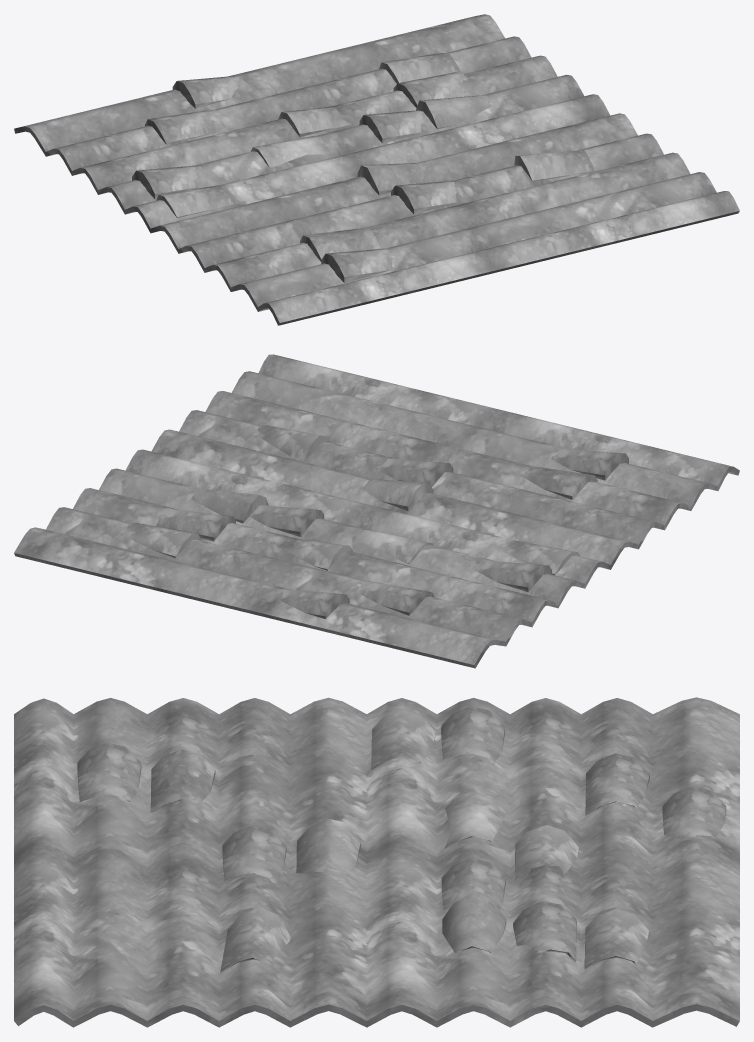
The model's file is SM_Rooftiles_01a.fbx.
The picture shows the model from 3 angles, top to bottom: view 1: azimuth 30°, elevation 25°; view 2: azimuth 150°, elevation 25°; view 3: azimuth 270°, elevation 25°; orthographic projection. The views are drawn at different scales.
Visible parts, largest first — view 1: SM_Rooftiles_01a_LOD0; view 2: SM_Rooftiles_01a_LOD0; view 3: SM_Rooftiles_01a_LOD0.
Boxes of the visible parts, x1,y1,x2,y2 form: SM_Rooftiles_01a_LOD0: (14, 14, 739, 325); SM_Rooftiles_01a_LOD0: (14, 354, 739, 668); SM_Rooftiles_01a_LOD0: (14, 697, 739, 1027).
Size of the model in its own units: 300 by 300 by 19.28.
